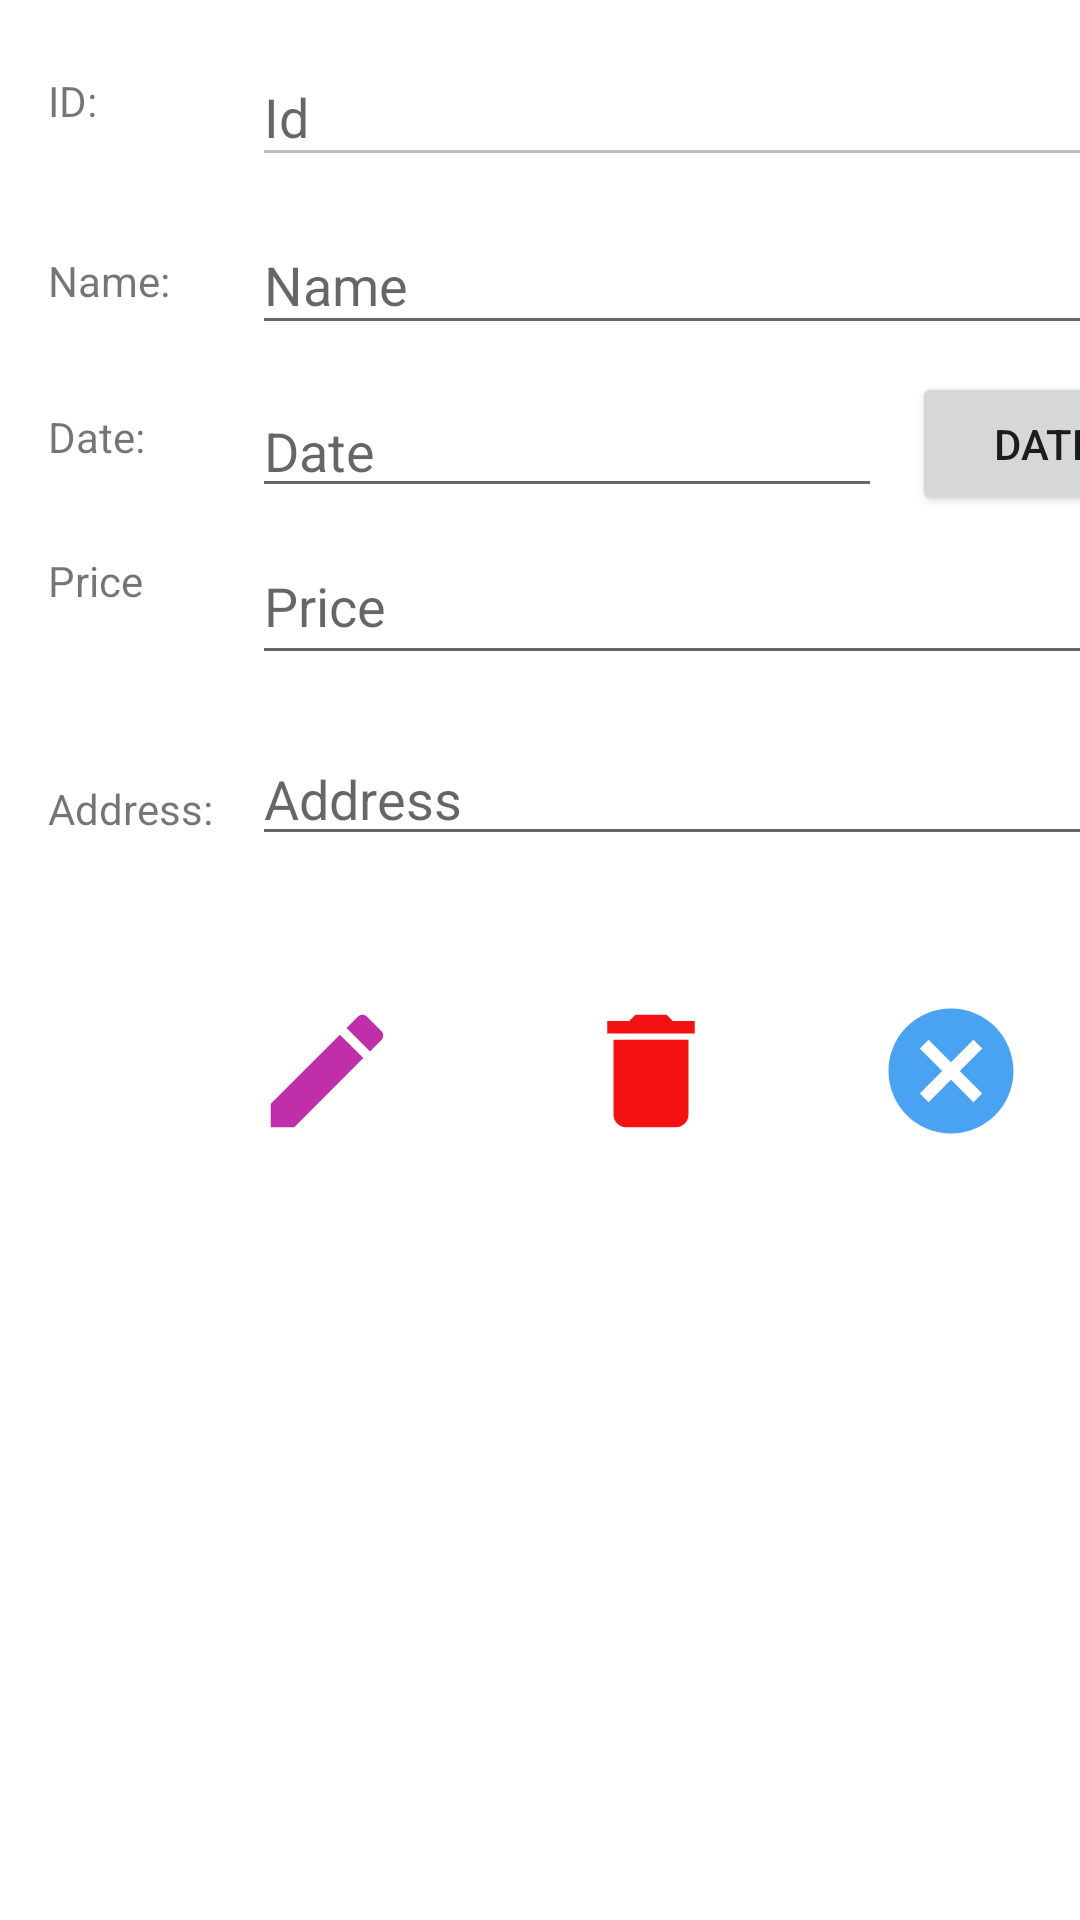

Icon bounding boxes for this 1080*1920 phone screenshot, format (left=x1, top=y1, right=x2, bottom=y2):
cancel: (left=888, top=1008, right=1014, bottom=1134)
delete: (left=607, top=1014, right=695, bottom=1128)
